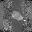people: (11, 11, 23, 21)
